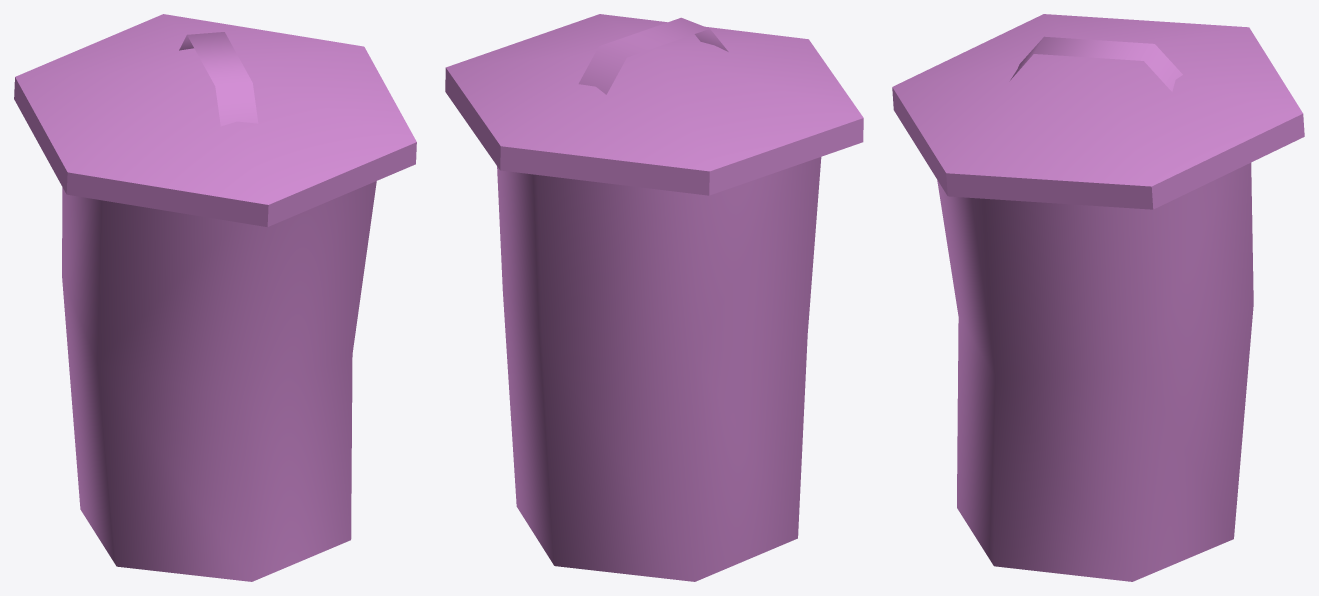
The model's file is P_city_trash_can.fbx.
The picture shows the model from 3 angles, left to right: view 1: azimuth 30°, elevation 25°; view 2: azimuth 150°, elevation 25°; view 3: azimuth 270°, elevation 25°; orthographic projection. The views are drawn at different scales.
Visible parts, largest first — view 1: P_city_trash_can; view 2: P_city_trash_can; view 3: P_city_trash_can.
Part boxes in pixels (box(x1,y1,x2,y2)): P_city_trash_can: box(14, 14, 416, 581); P_city_trash_can: box(445, 14, 863, 581); P_city_trash_can: box(892, 14, 1304, 581).
Size of the model in its own units: 25.09 by 32.13 by 25.05.
